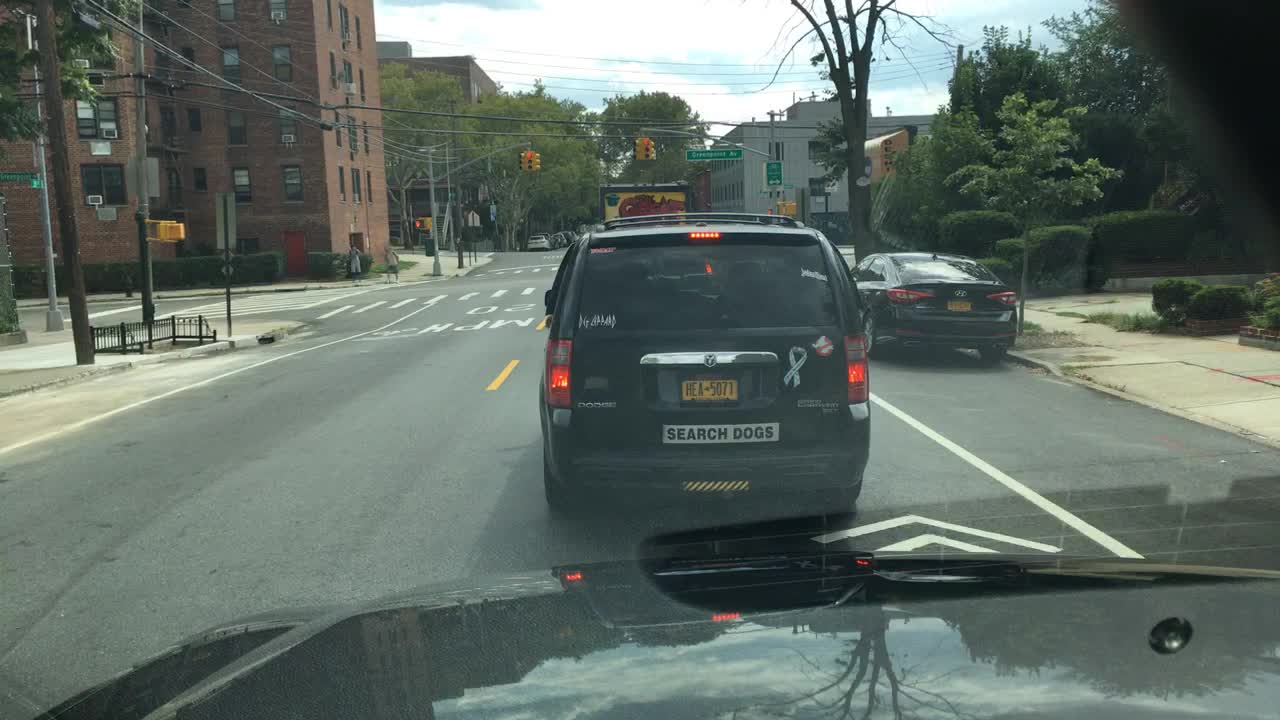car: (536, 211, 869, 516), (849, 251, 1017, 366), (523, 233, 553, 253), (540, 228, 560, 246), (553, 228, 570, 246), (565, 226, 580, 239)
person: (381, 243, 401, 287), (346, 239, 364, 285)
traffic light: (153, 219, 185, 243), (629, 135, 643, 164), (776, 197, 798, 215), (514, 147, 528, 174), (413, 212, 430, 233), (523, 147, 536, 172), (531, 150, 541, 174), (641, 137, 649, 162), (764, 202, 774, 216)
traffic sign: (212, 185, 238, 248), (685, 147, 744, 158), (0, 169, 37, 182), (764, 158, 779, 184), (464, 207, 482, 228), (27, 175, 44, 191), (779, 179, 796, 191)
truck: (597, 182, 692, 226)
